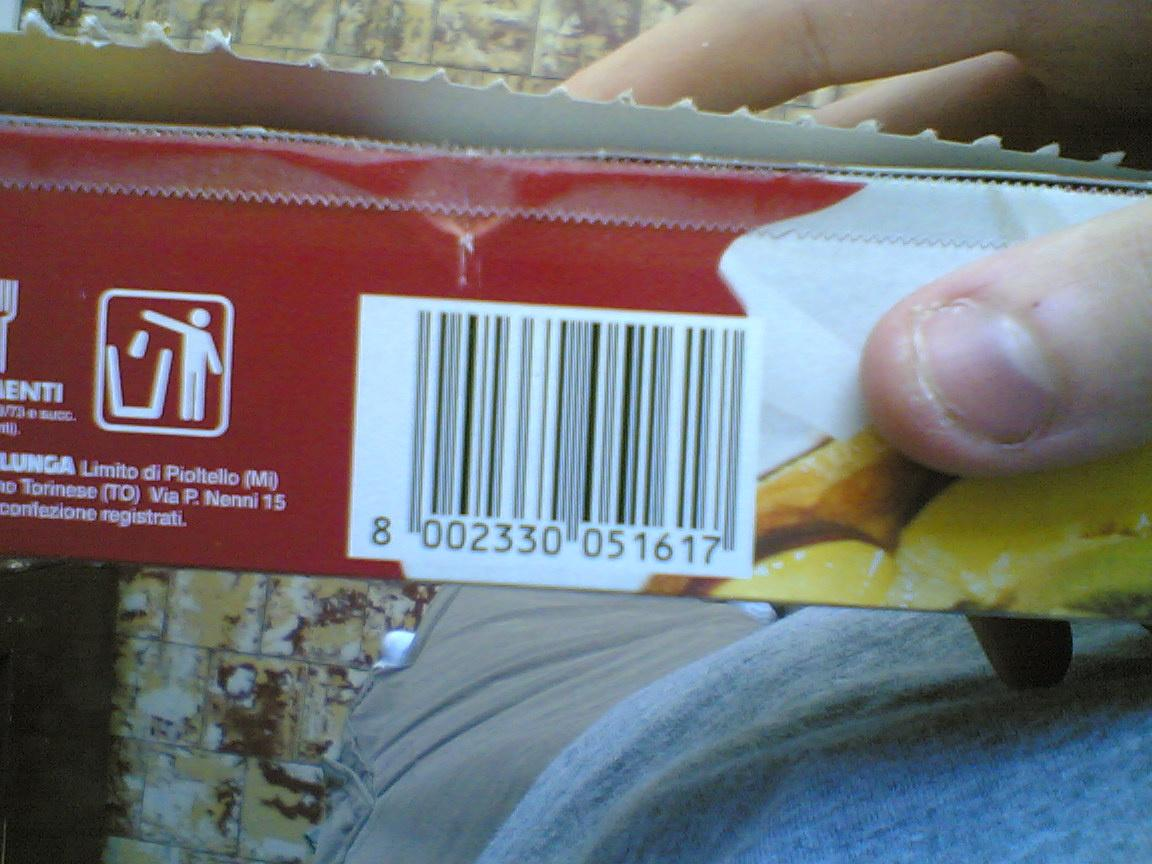Barcode: (347, 292, 762, 585)
